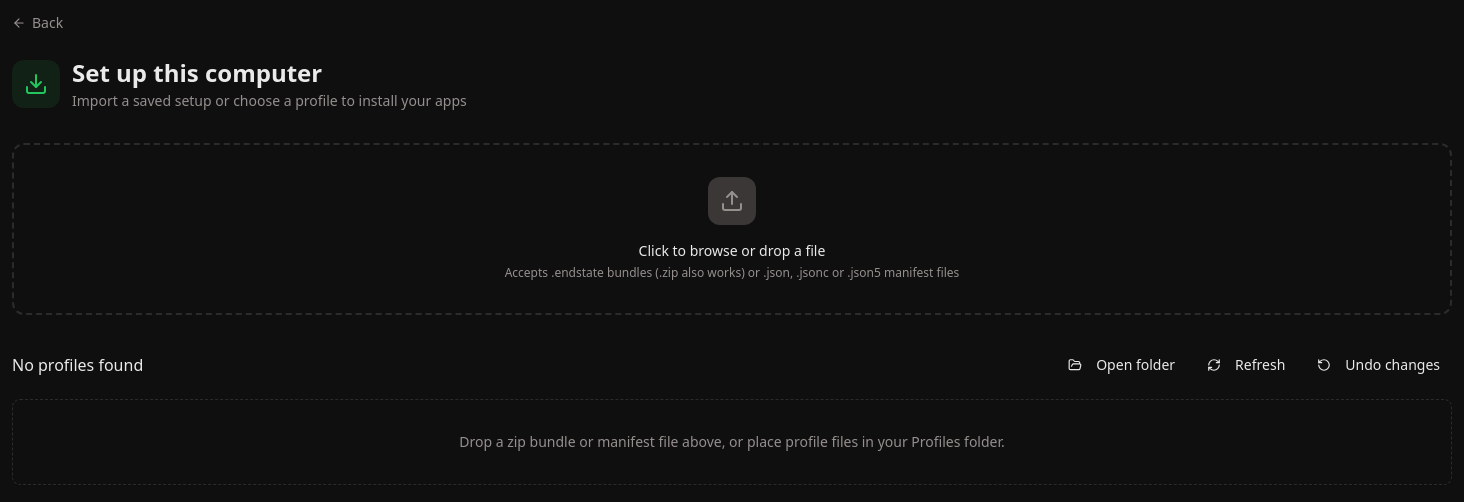
Scenario: SetupFlow — Undo settings › shows undo-error when dry-run fails
Click the button "Undo changes" at x=1379, y=365, box [1305,347,1452,383]
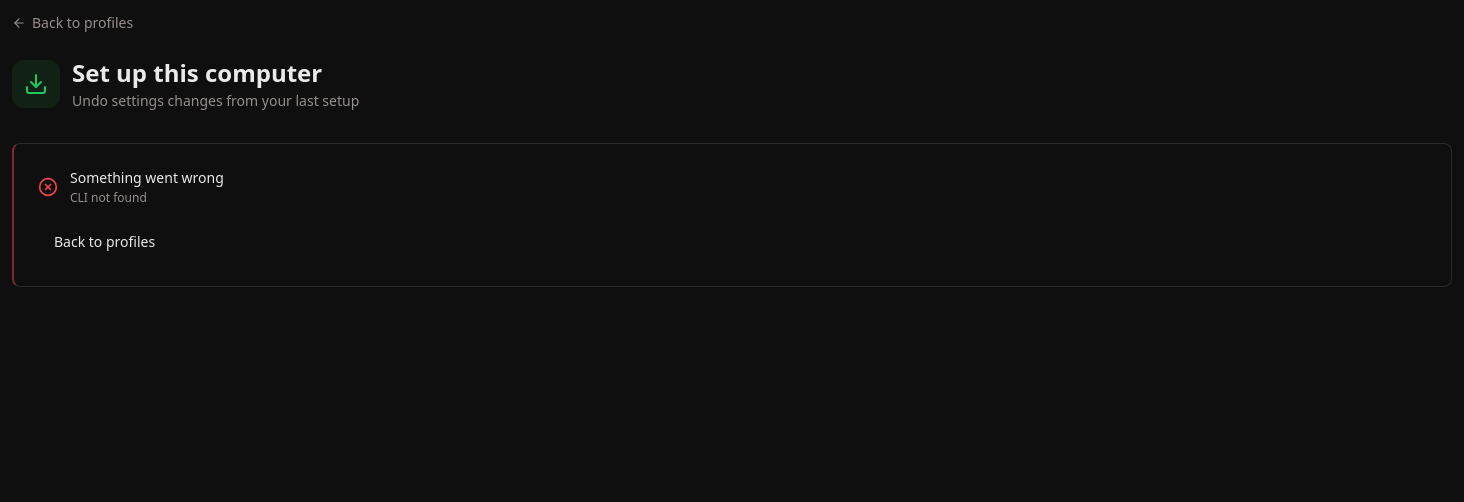
Check: the text "Something went wrong" is shown, box [70,168,224,188]
Check: the text "CLI not found" is shown, box [70,189,147,206]
